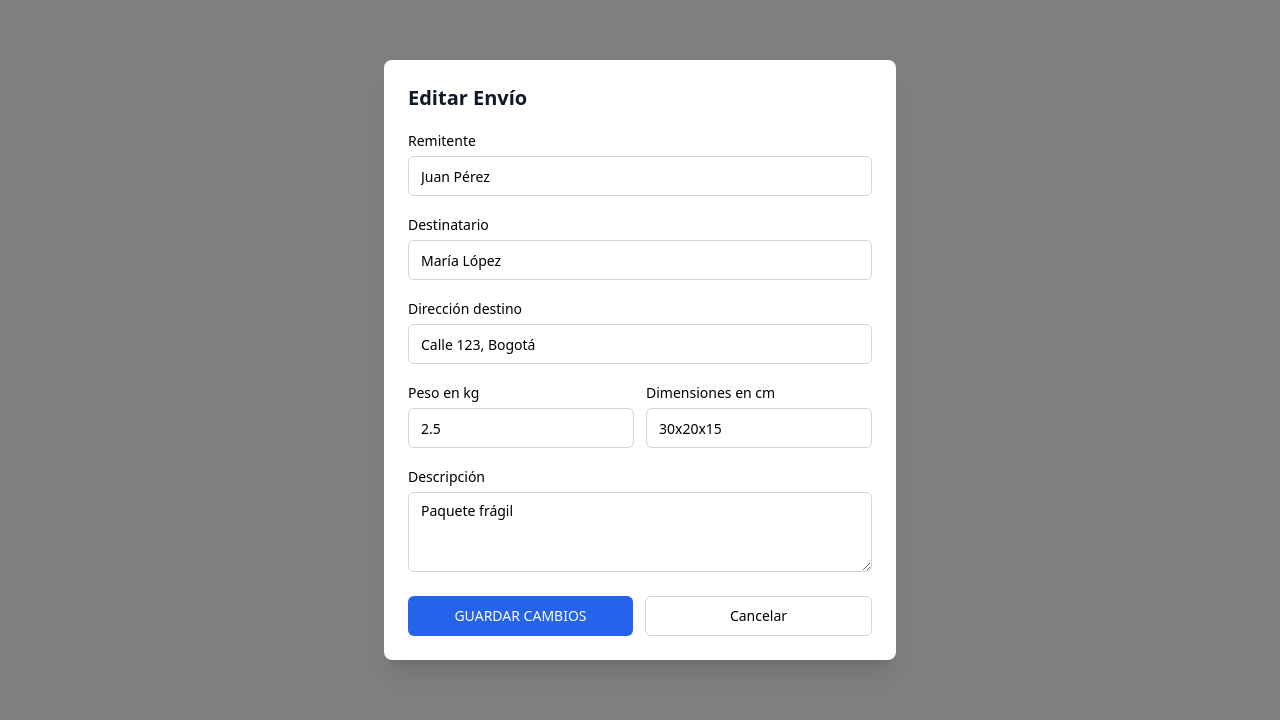
it: EditarEnvioModal component › debe mostrar Toast de éxito y cerrar el modal al recibir 200
Expected: the field labelled "Remitente" is shown, [408,156,872,196]
Click the button "GUARDAR CAMBIOS": coordinates (520, 616) [408,596,633,636]
Wait 1200 ms
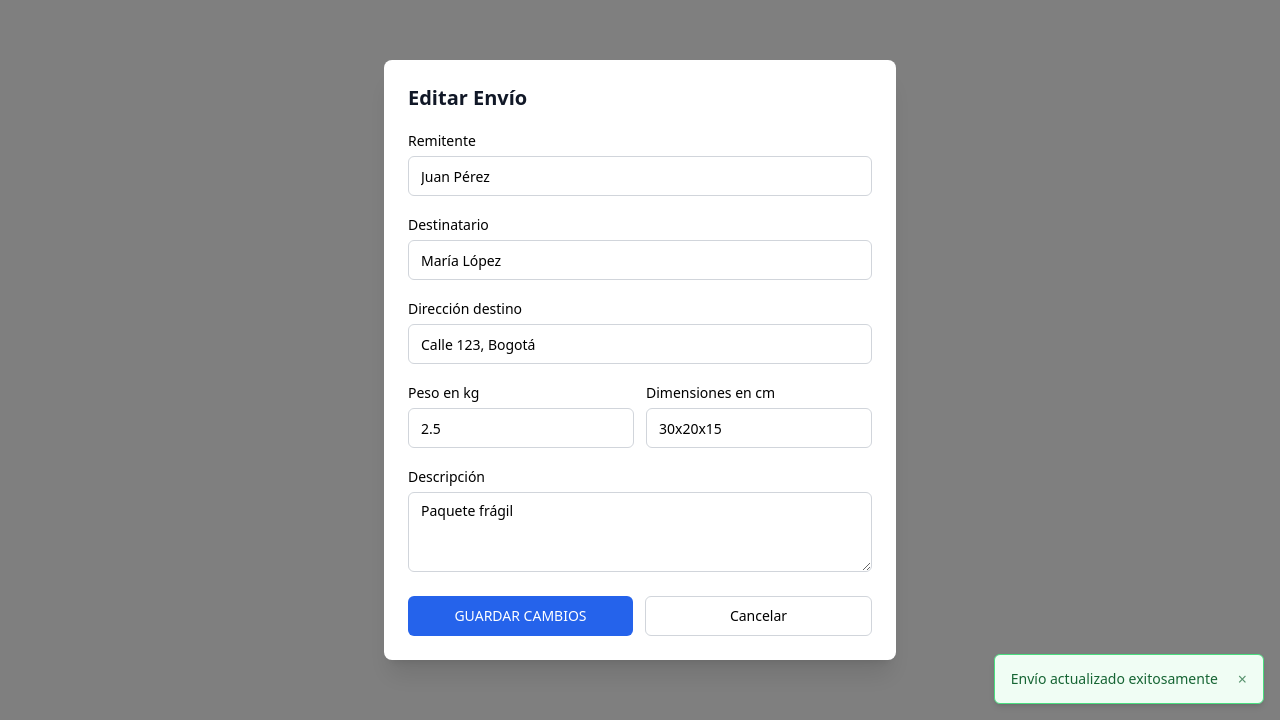
Expected: the message shows "Envío actualizado exitosamente", [1011,669,1218,688]
